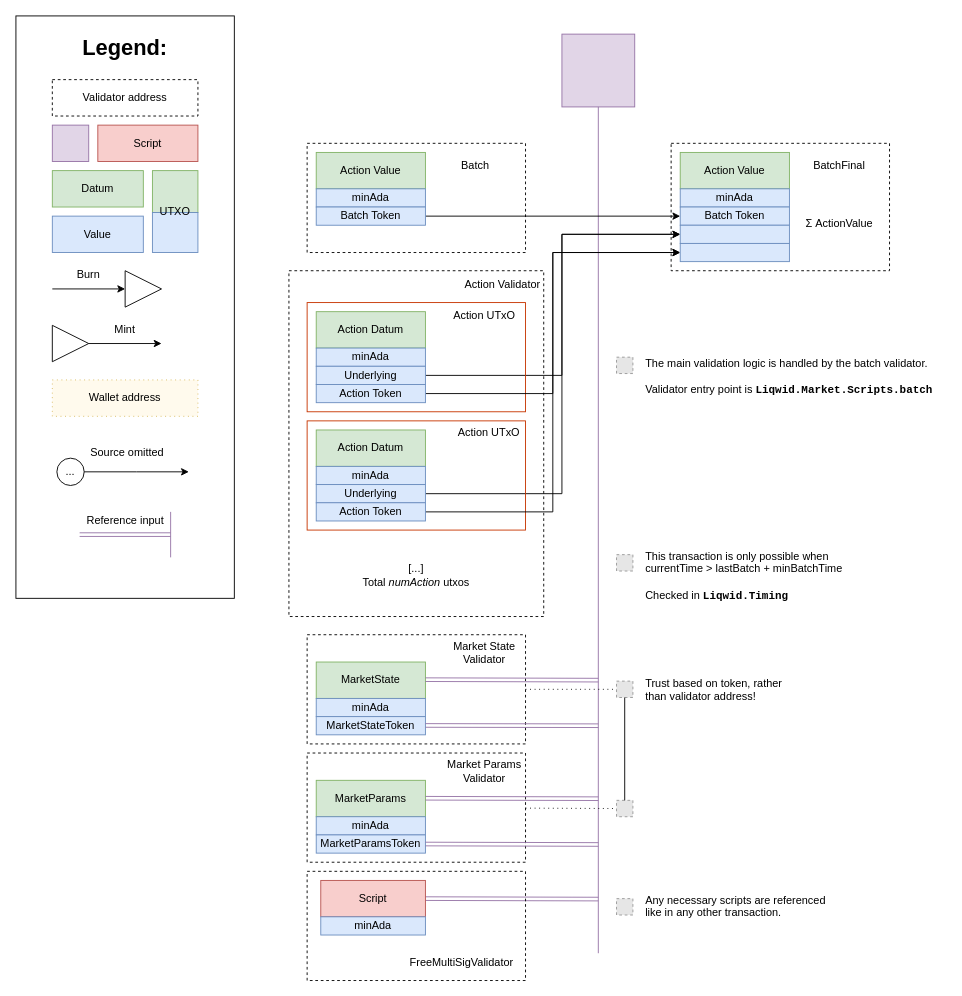
This 962x996 diagram has some shape labels left out. Grey dashed boxes stand in for pictures. Here are the shapes that lost their labels. From the top down, the centre of each, then its label:
At (x=598, y=70): "Batch Transaction".
At (x=70, y=143): "Tx".
At (x=734, y=233): "Σ action underlying".
At (x=734, y=252): "numAction ActionTokens".
